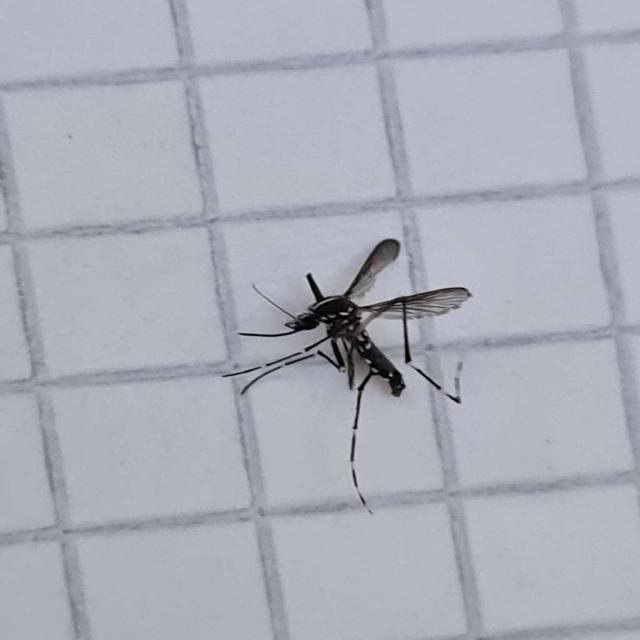albopictus: (213, 228, 476, 526)
